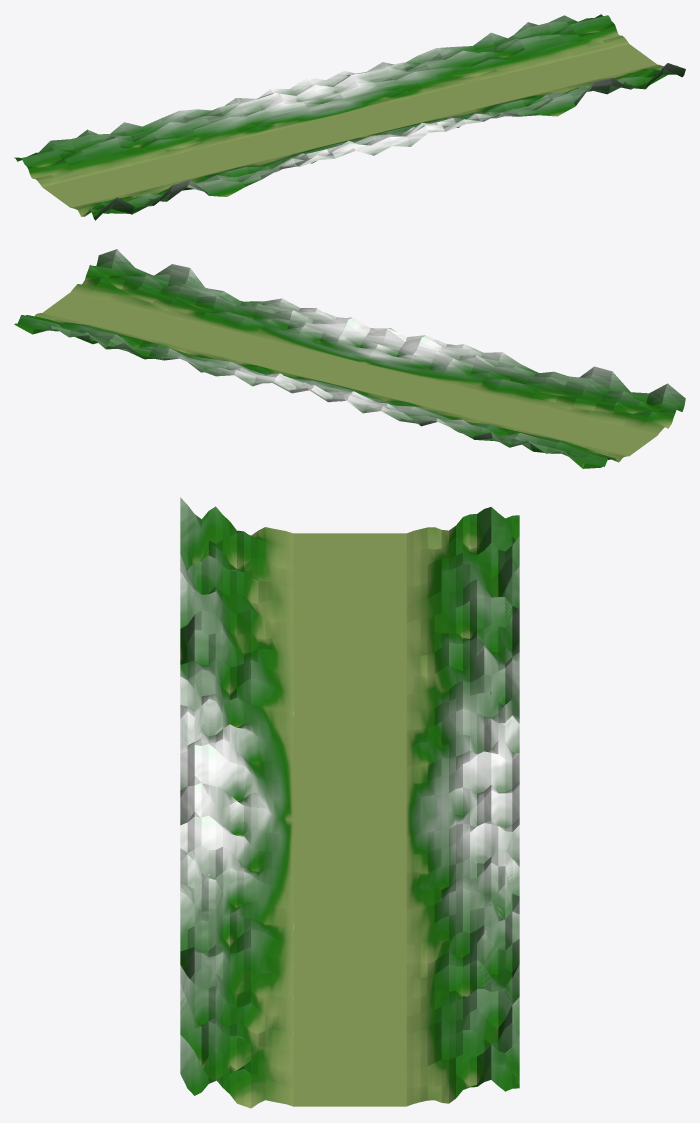
The model's file is Landscape_Level_01.glb.
3 renders of one model, top to bottom at view 1: azimuth 30°, elevation 25°; view 2: azimuth 150°, elevation 25°; view 3: azimuth 270°, elevation 25°, orthographic. The views are drawn at different scales.
Visible parts, largest first — view 1: Bake; view 2: Bake; view 3: Bake.
Boxes of the visible parts, x1,y1,x2,y2 form: Bake: (14, 14, 685, 220); Bake: (14, 249, 685, 468); Bake: (180, 497, 519, 1108).
Size of the model in its own units: 80 by 3.65 by 20.
1 material, 1 textured.
